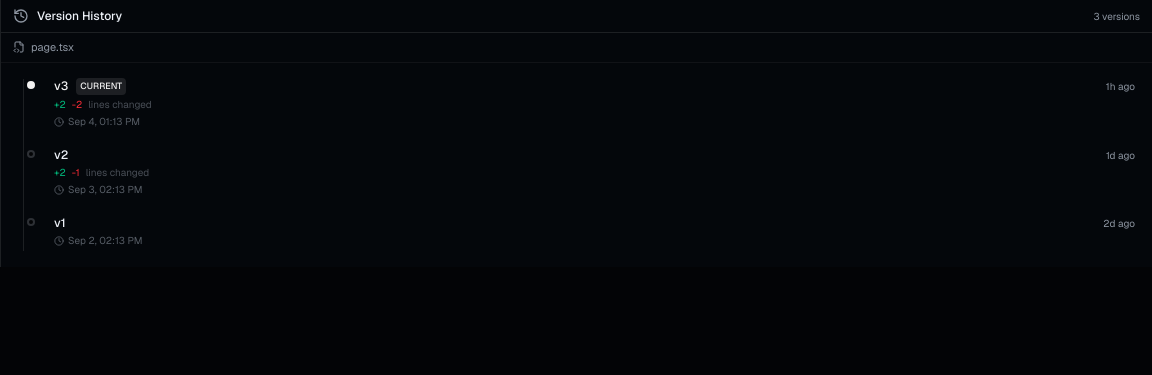
Test: VersionHistoryPanel › shows expand/collapse button
The image size is (1152, 375).
Click the text "v2".
click(61, 155)  # box [54,147,68,163]
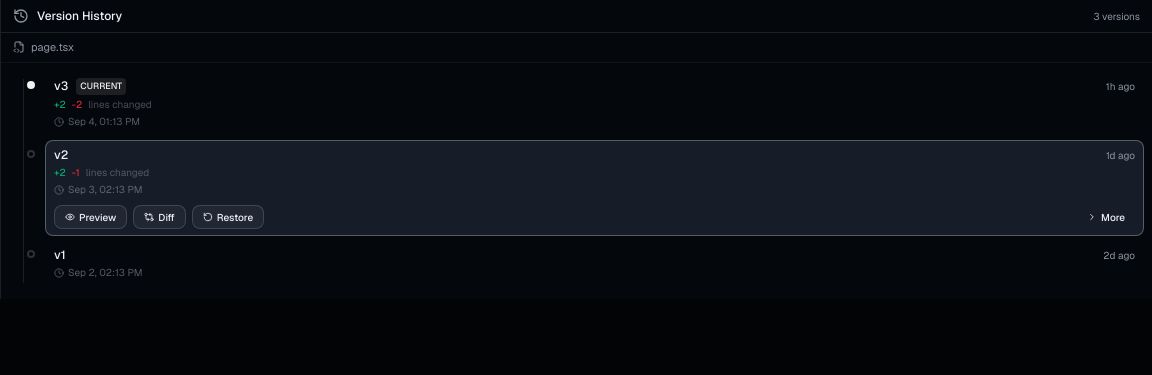
Now the button "More" is shown
Click the button "More".
click(1106, 217)  # box [1077,205,1135,229]
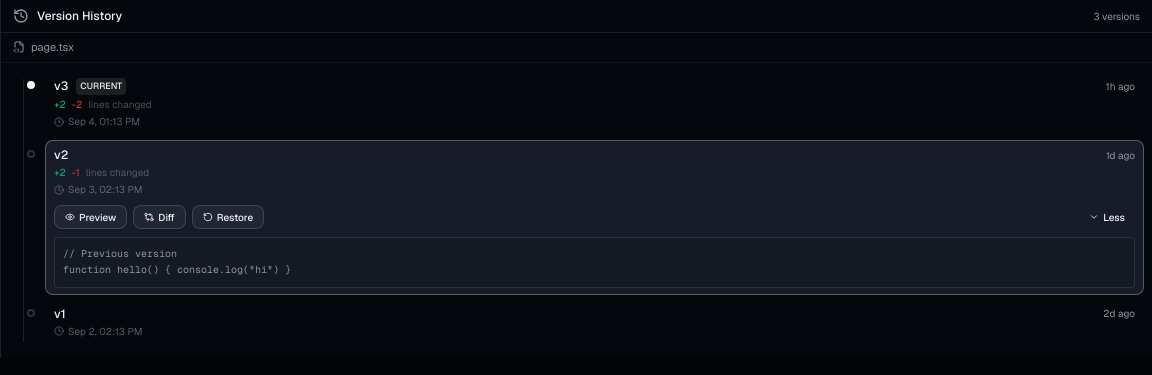
Now the button "Less" is shown, box [1079,205,1135,229]
